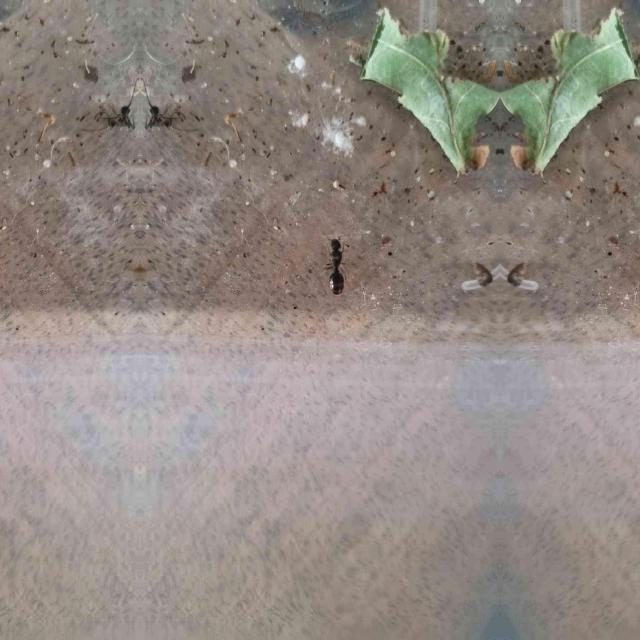Tetramorium: (316, 230, 350, 296)
